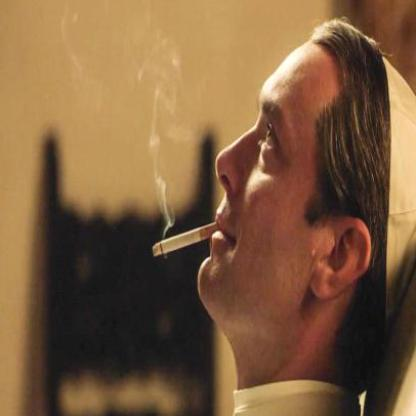cigarette: (152, 219, 217, 260)
person: (202, 21, 415, 415)
smoke: (152, 176, 174, 239)
